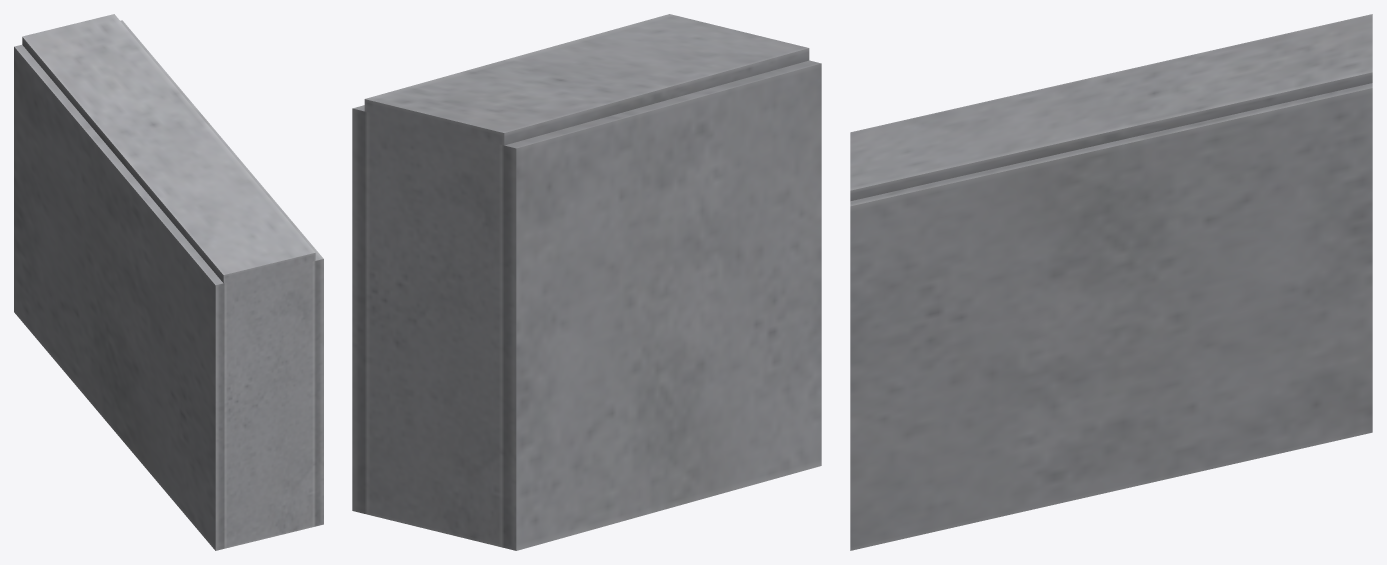
Rendered from set_curb_slope_loop.fbx.
3 views of the same model, side by side, from view 1: azimuth 30°, elevation 25°; view 2: azimuth 150°, elevation 25°; view 3: azimuth 270°, elevation 25° (orthographic). The views are drawn at different scales.
Parts seen in each view (by area): view 1: set_curb_slope_loop; view 2: set_curb_slope_loop; view 3: set_curb_slope_loop.
Part boxes in pixels (<box>): set_curb_slope_loop: <box>14,14,323,550</box>; set_curb_slope_loop: <box>352,14,821,550</box>; set_curb_slope_loop: <box>850,14,1372,550</box>.
Size of the model in its own units: 30 by 96.66 by 96.64.
